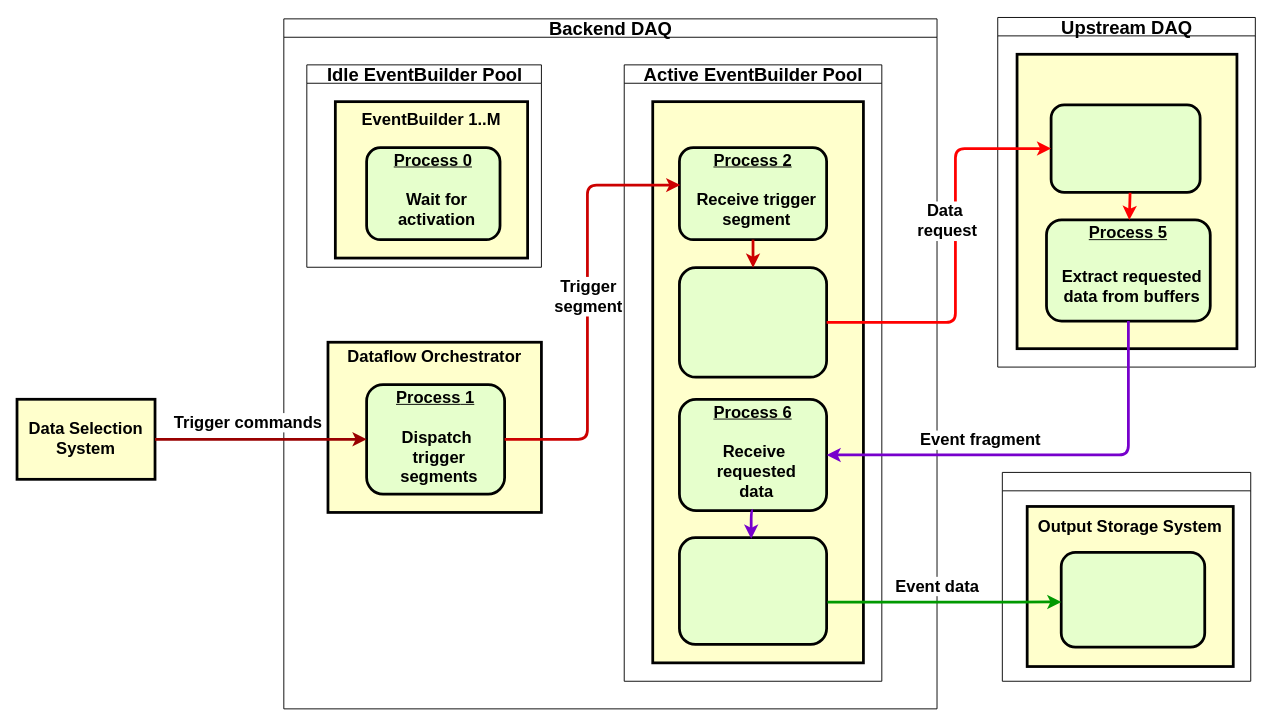
The diagram is 1271 pixels wide and 725 high, and some of its shapes have lost their labels. Here are the shapes that lost their labels. From the top down, the box of each, then its label:
(1049, 103, 1201, 193): Process 4 Receive data request
(1015, 52, 1238, 350): FrontEnd 1..X
(678, 266, 828, 378): Process 3 Request data from front-end buffers
(651, 100, 864, 664): EventBuilder 1..N
(678, 536, 828, 645): Process 7 Assemble events from fragments
(1001, 472, 1251, 681): Infrastructure
(1059, 551, 1206, 648): Process 8 Persist data to files
